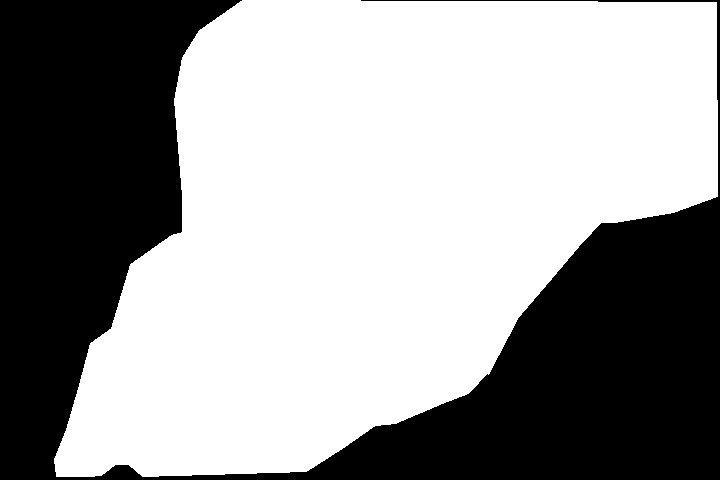Fire: (187, 8, 589, 425)
